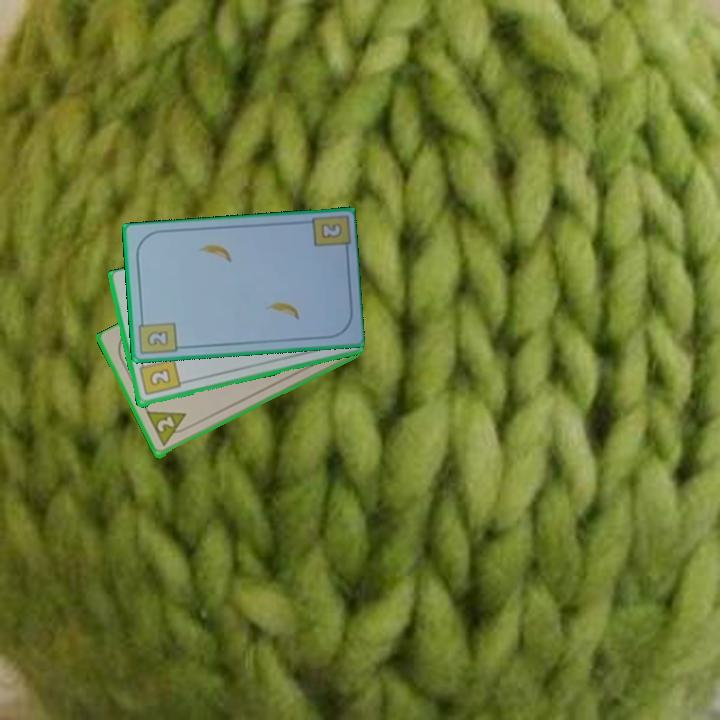2b: (135, 356, 183, 398), (136, 313, 180, 357), (317, 220, 345, 242)
2p: (153, 413, 177, 435)
